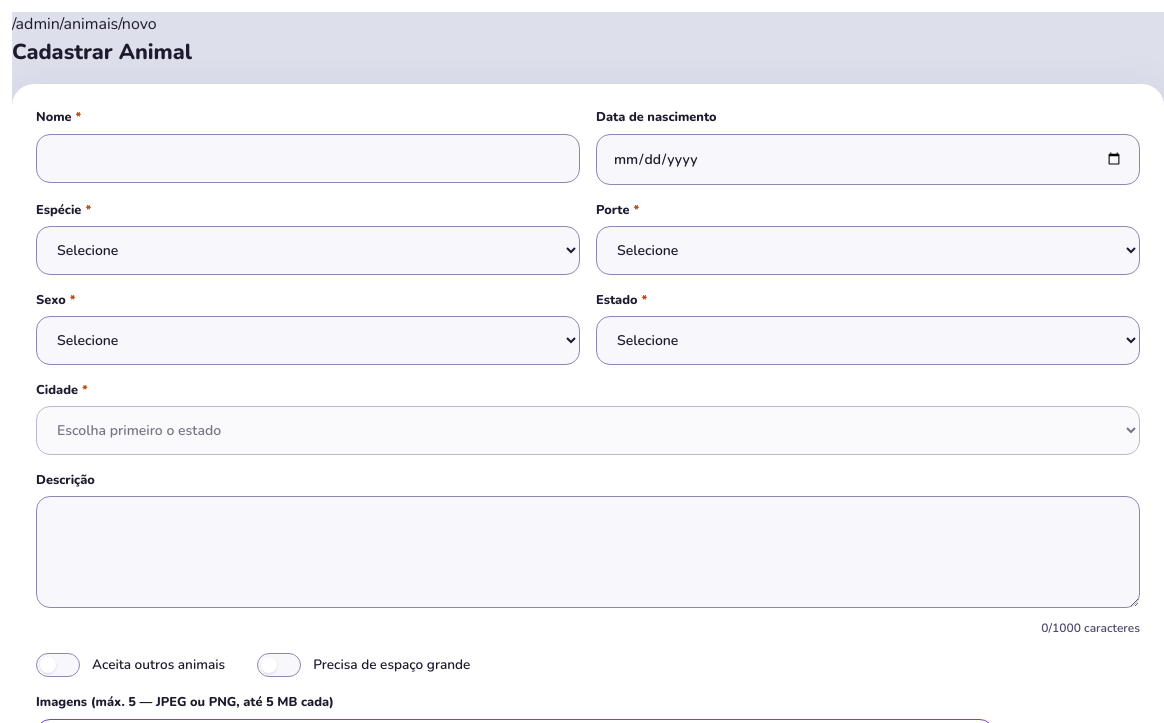
Test: modo de cadastro › CT-39/CA-16: falha ao carregar cidades exibe a mensagem com nova tentativa, e NUNCA campo vazio
The width and height of the screenshot is (1164, 723).
Select "PR" in the dropdown labelled "Estado*" at coordinates (868, 340), box [596, 316, 1140, 365]
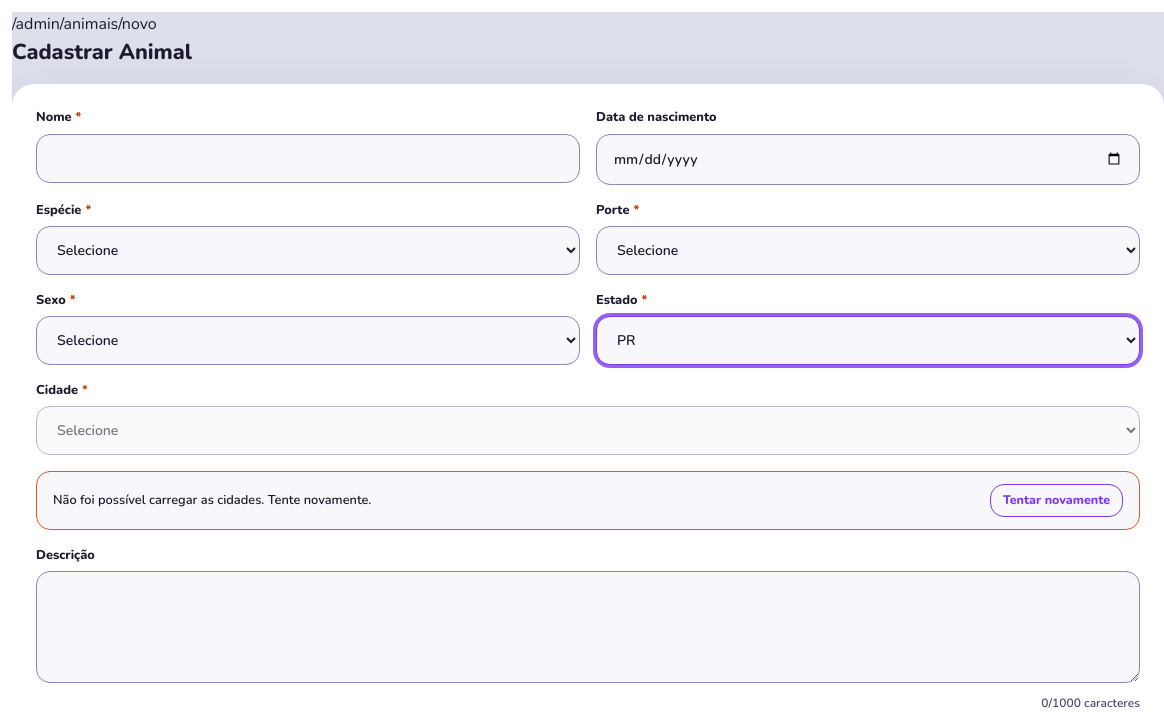
Check: the dropdown labelled "Cidade*" is disabled, box [36, 406, 1140, 455]
Check: the text "Não foi possível carregar as cidades. Tente novamente." is shown, box [53, 491, 371, 510]
Click the button "Tentar novamente".
click(1056, 500)  # box [990, 484, 1123, 517]
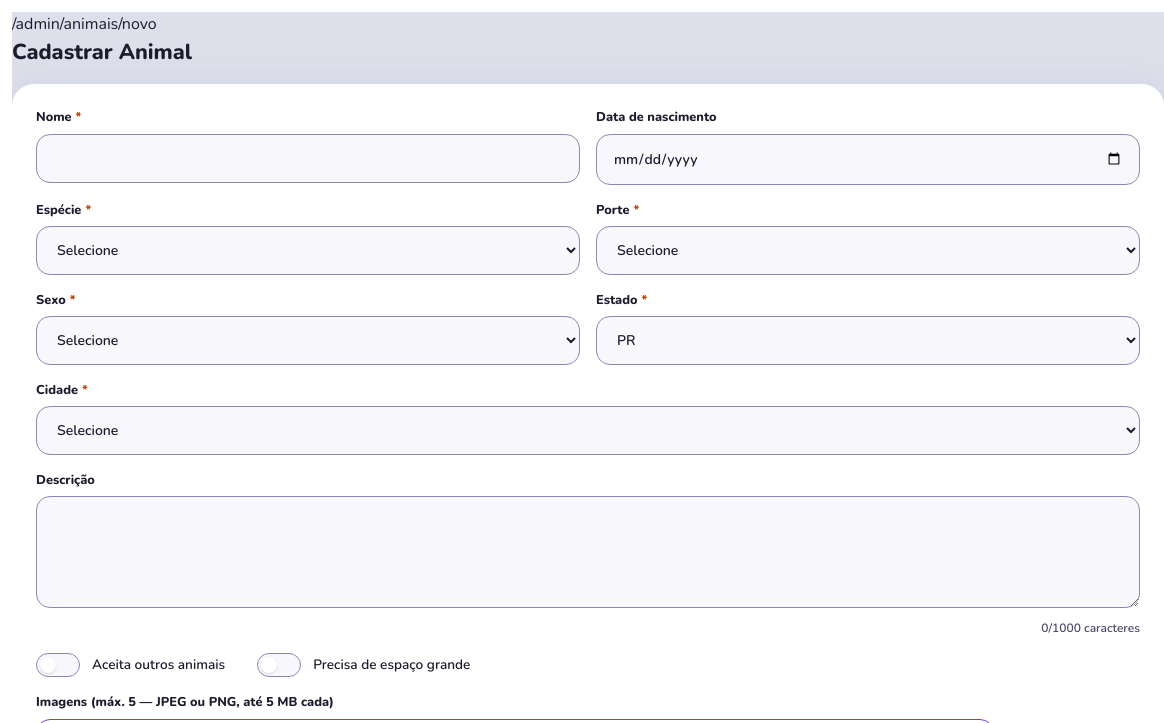
Check: the dropdown labelled "Cidade*" is enabled, box [36, 406, 1140, 455]
